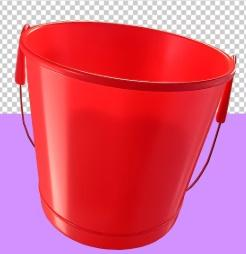SEAU: (2, 0, 246, 254)
